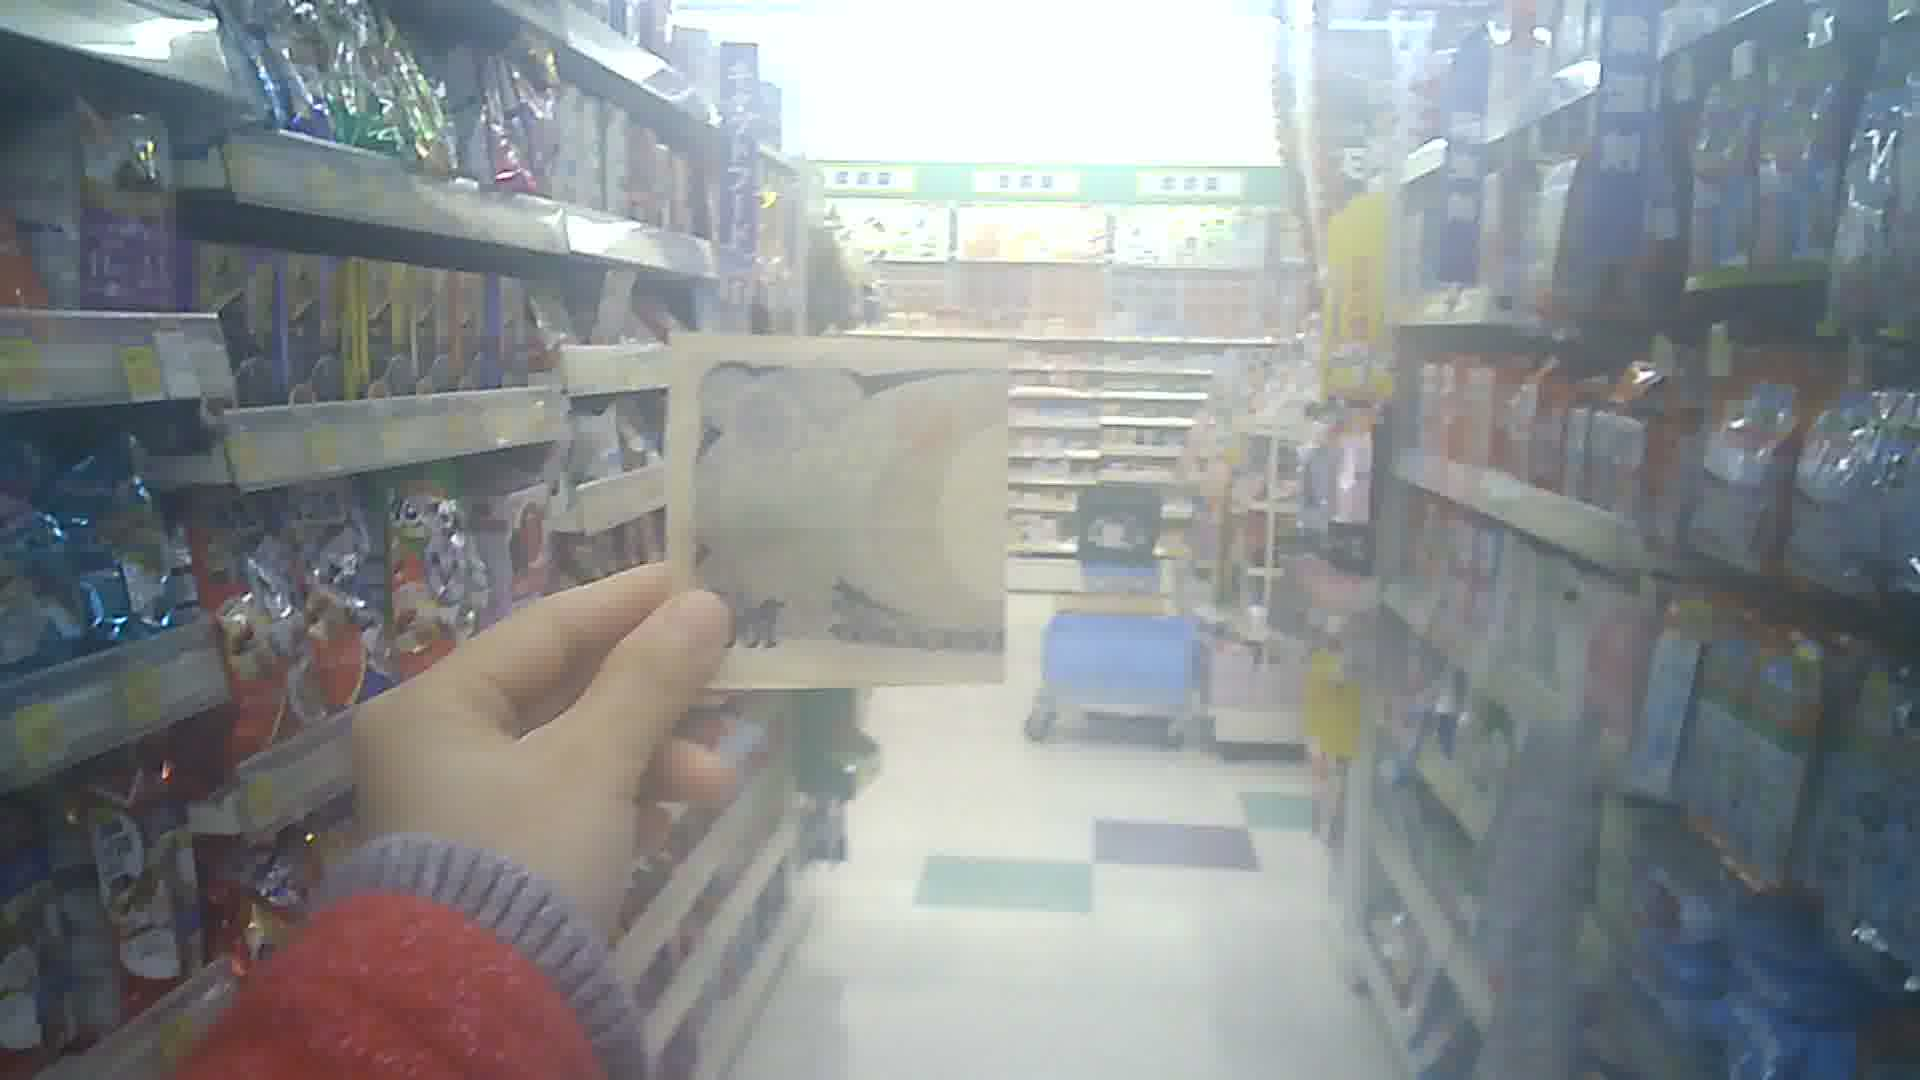1,000 Yen: (646, 320, 1014, 665)
